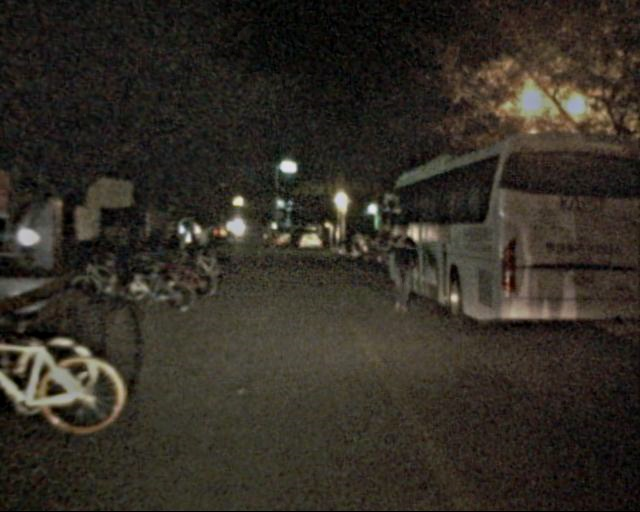person: (386, 221, 427, 320), (188, 217, 214, 277)
